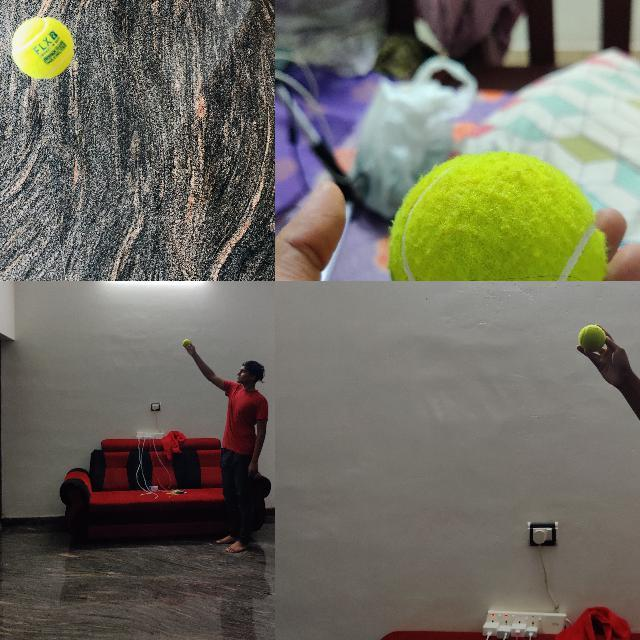tennis-ball: (387, 150, 609, 280), (12, 17, 73, 78), (578, 324, 606, 352), (182, 338, 190, 346)
